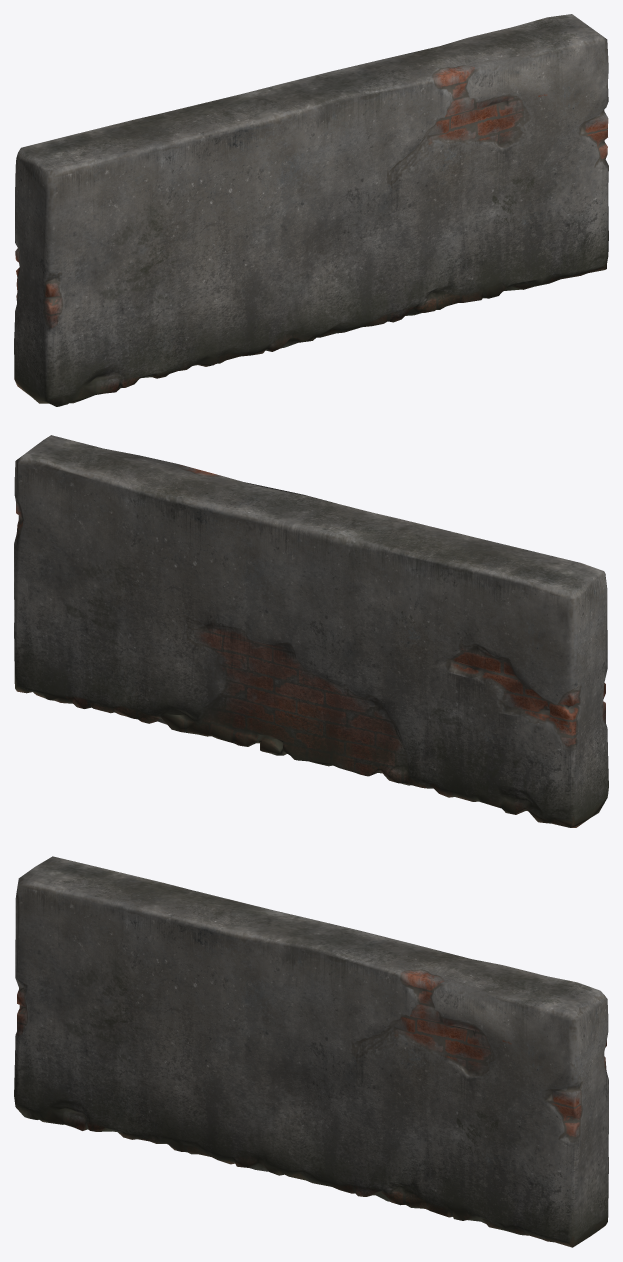
Rendered from damaged_wall.glb.
3 renders of one model, top to bottom at view 1: azimuth 30°, elevation 25°; view 2: azimuth 150°, elevation 25°; view 3: azimuth 330°, elevation 25°, orthographic.
Parts seen in each view (by area): view 1: Object_2; view 2: Object_2; view 3: Object_2.
Boxes of the visible parts, box(x1,y1,x2,y2) form: Object_2: box(14, 14, 608, 406); Object_2: box(14, 435, 608, 827); Object_2: box(14, 856, 608, 1247).
Size of the model in its own units: 200 by 82.14 by 24.57.
Materials: 1 (1 with a texture image).
